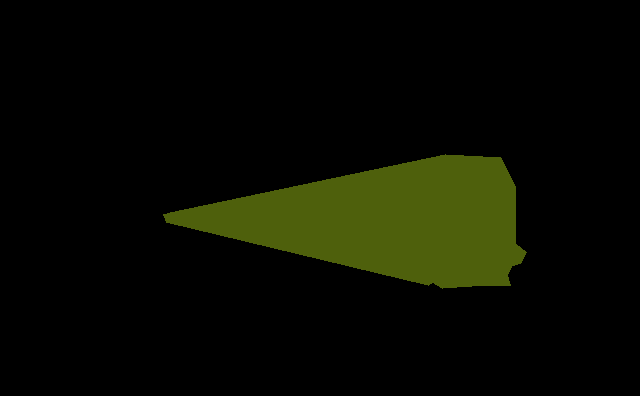Train: (163, 154, 527, 289)
